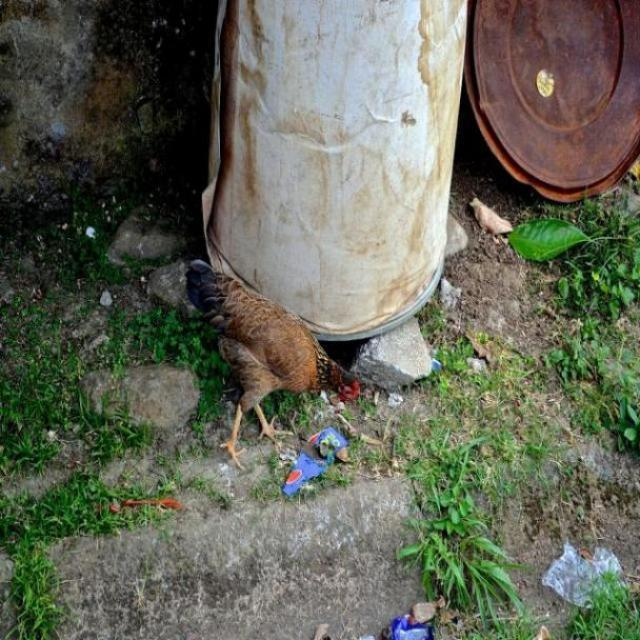Chicken: (185, 256, 361, 472)
